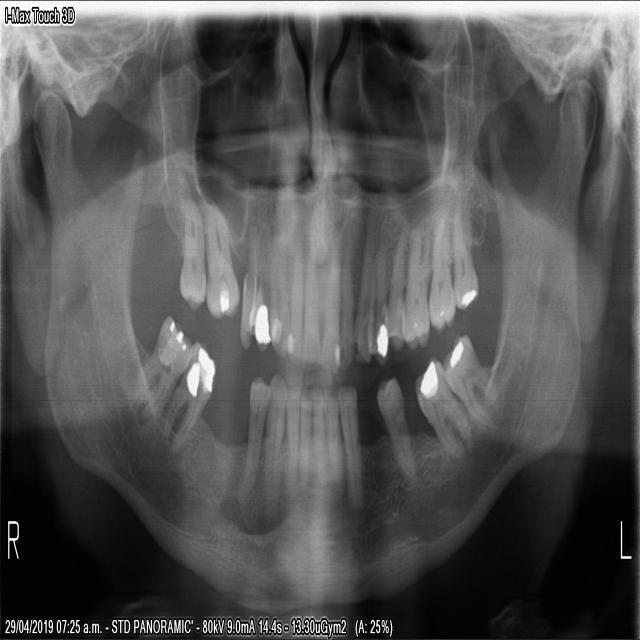LCD: (335, 381, 364, 505)
LCU: (347, 233, 375, 371)
LID: (322, 387, 342, 489), (309, 383, 328, 487)
LIU: (332, 248, 354, 375), (319, 237, 340, 369)
LMD: (414, 359, 477, 467), (439, 328, 497, 436)
LMU: (400, 225, 431, 354), (425, 220, 457, 337), (450, 210, 480, 310)
LPMD: (371, 374, 419, 487)
LPMU: (365, 243, 388, 363), (386, 236, 408, 353)
RCD: (260, 365, 287, 514)
RCU: (268, 214, 287, 359)
RID: (281, 383, 300, 486), (297, 383, 312, 486)
RIU: (284, 239, 302, 368), (301, 231, 318, 365)
RMD: (153, 336, 216, 455), (140, 308, 194, 418)
RMU: (175, 197, 205, 310)
RPMD: (238, 372, 272, 496)
RPMU: (199, 197, 240, 325), (237, 226, 271, 357)
